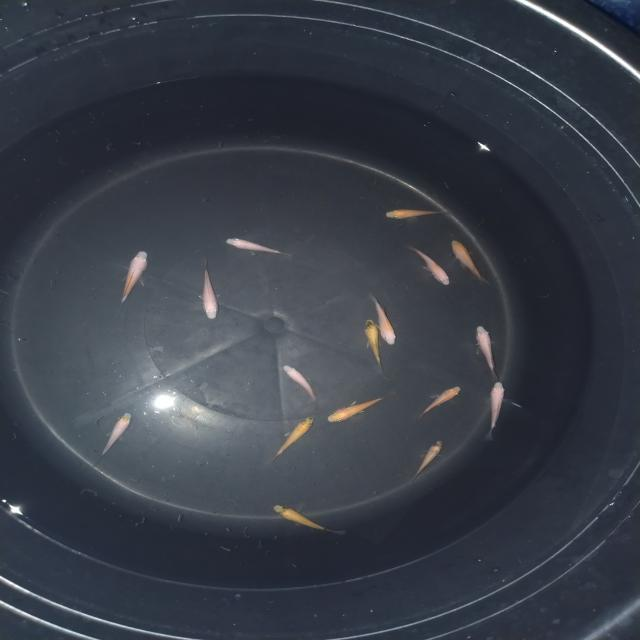nila: (268, 502, 342, 538), (324, 391, 399, 424), (117, 248, 151, 316), (268, 416, 316, 464), (91, 411, 136, 462), (404, 244, 451, 292), (472, 322, 509, 382), (366, 291, 404, 347), (447, 238, 493, 284), (358, 318, 391, 378), (282, 362, 321, 412), (413, 385, 462, 423), (196, 254, 222, 322), (408, 438, 445, 484), (221, 236, 292, 257), (384, 206, 453, 224), (486, 382, 504, 440)
